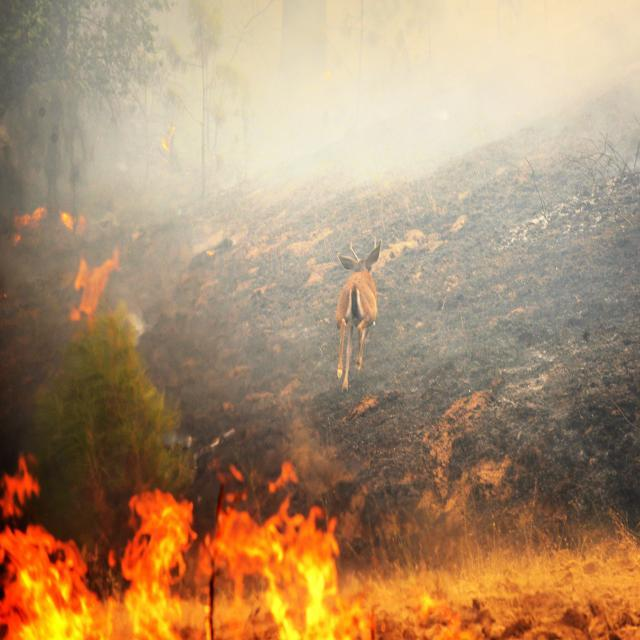Fire: (0, 441, 377, 640), (68, 241, 124, 331), (4, 203, 98, 244)
Smoke: (178, 0, 593, 201)
